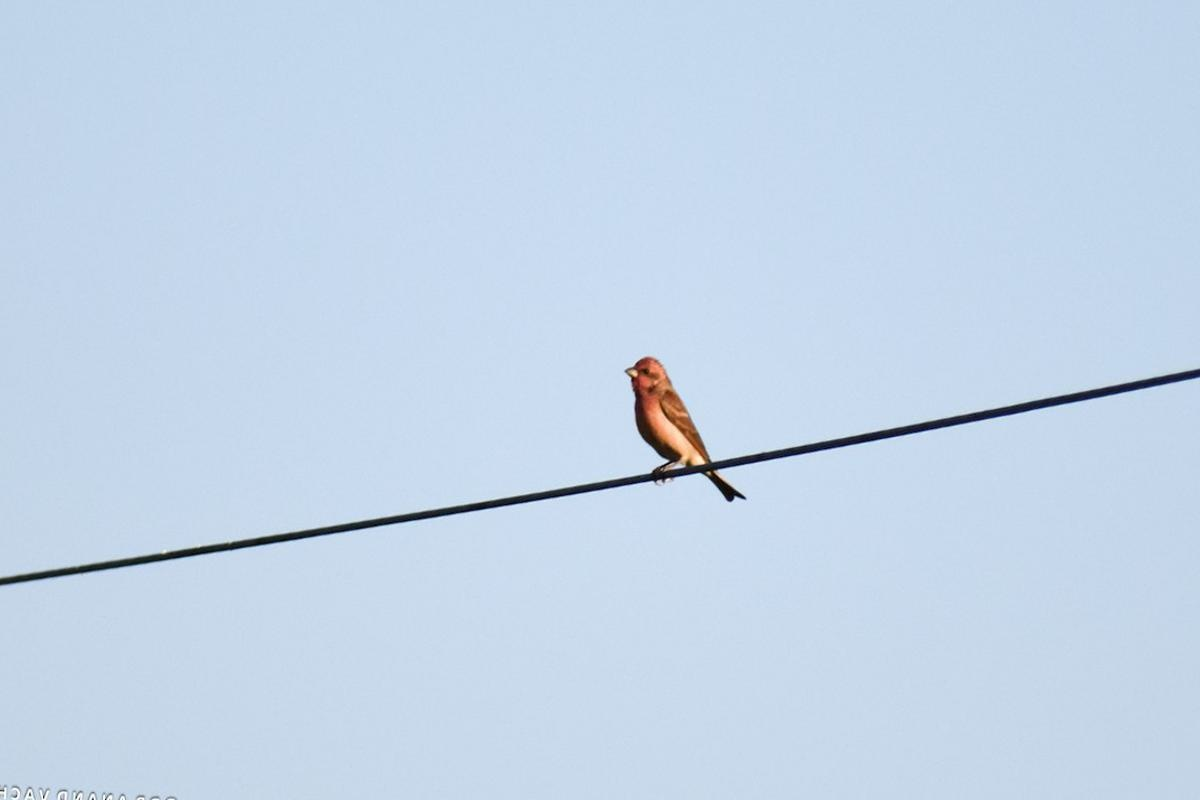rosefinch: (580, 314, 751, 526)
